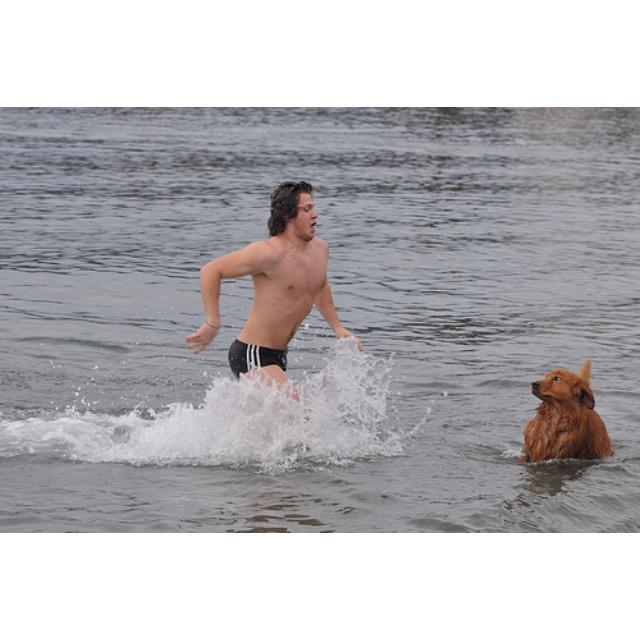human: (187, 176, 364, 411)
